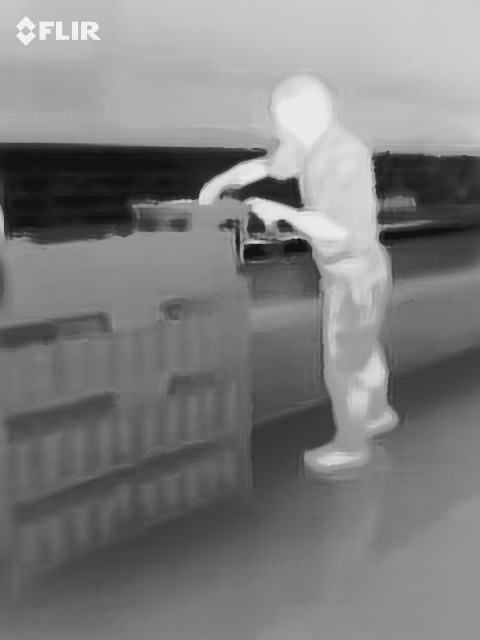head: (270, 77, 332, 147)
